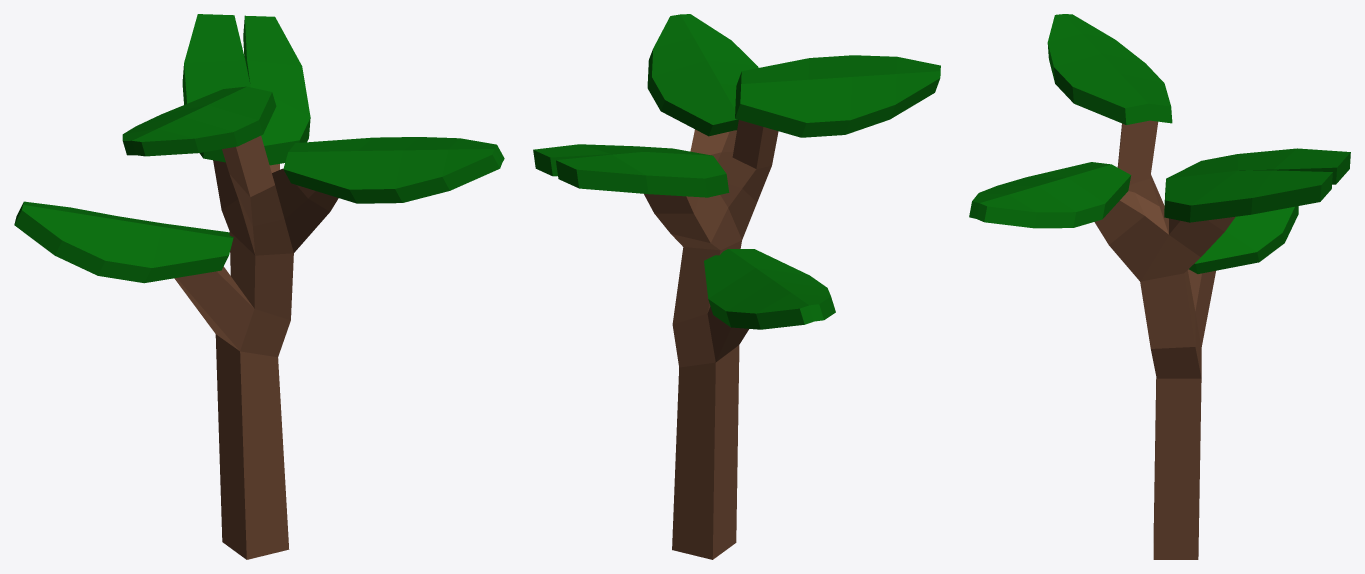
Rendered from Sapling.glb.
3 renders of one model, left to right at view 1: azimuth 30°, elevation 25°; view 2: azimuth 150°, elevation 25°; view 3: azimuth 270°, elevation 25°, orthographic. The views are drawn at different scales.
Parts seen in each view (by area): view 1: Cube.001; view 2: Cube.001; view 3: Cube.001.
Part boxes in pixels (x1,y1,x2,y2): Cube.001: (14, 14, 504, 559); Cube.001: (533, 14, 940, 559); Cube.001: (969, 14, 1350, 559).
Size of the model in its own units: 1.38 by 1.95 by 1.49.
